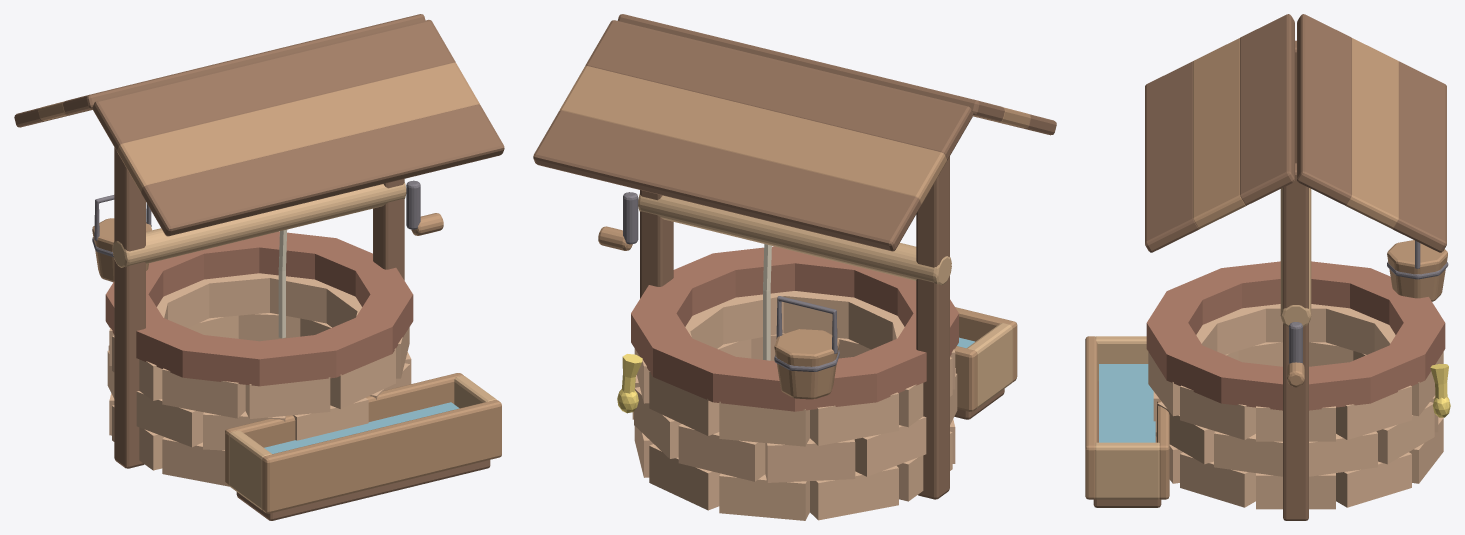
Rendered from Kit_LM_Well.fbx.
3 renders of one model, left to right at view 1: azimuth 30°, elevation 25°; view 2: azimuth 150°, elevation 25°; view 3: azimuth 270°, elevation 25°, orthographic. The views are drawn at different scales.
Parts seen in each view (by area): view 1: Kit_LM_Well; view 2: Kit_LM_Well; view 3: Kit_LM_Well.
Boxes of the visible parts, <box> form: Kit_LM_Well: <box>14,14,504,520</box>; Kit_LM_Well: <box>533,14,1056,520</box>; Kit_LM_Well: <box>1085,14,1450,520</box>.
Bounding box in the file's own units: 2.84 × 2.9 × 2.64.
